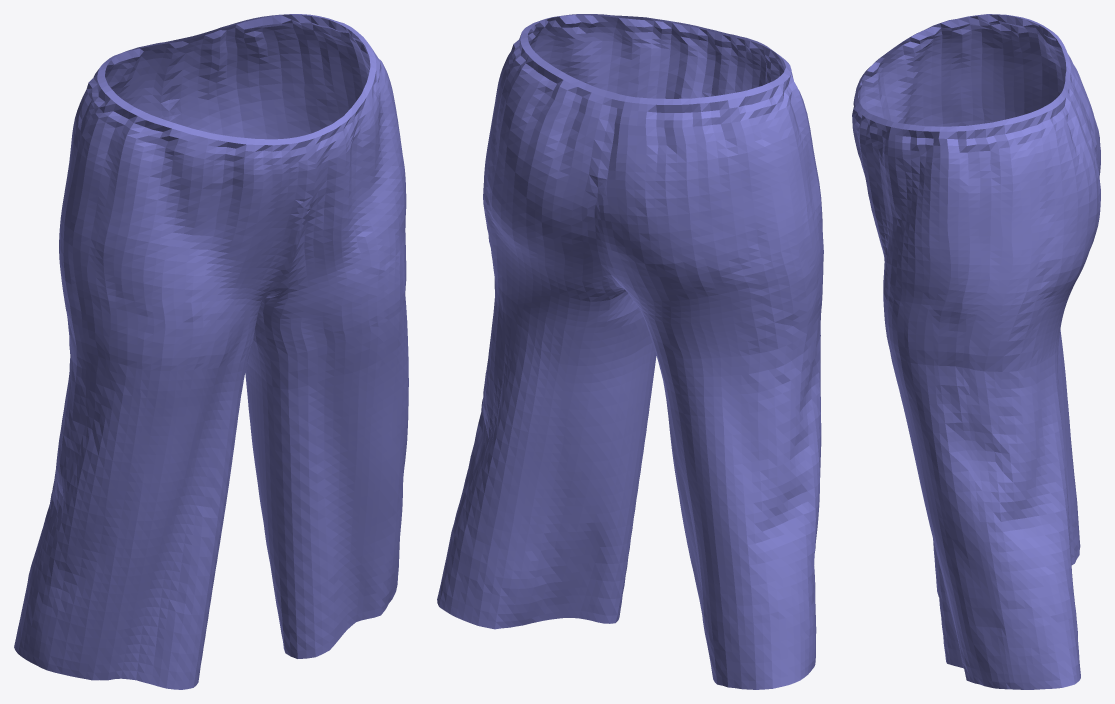
File: 02703-grade-rotate.obj
The picture shows the model from 3 angles, left to right: view 1: azimuth 30°, elevation 25°; view 2: azimuth 150°, elevation 25°; view 3: azimuth 270°, elevation 25°; orthographic projection. The views are drawn at different scales.
Size of the model in its own units: 0.478 by 0.7576 by 0.3017.
